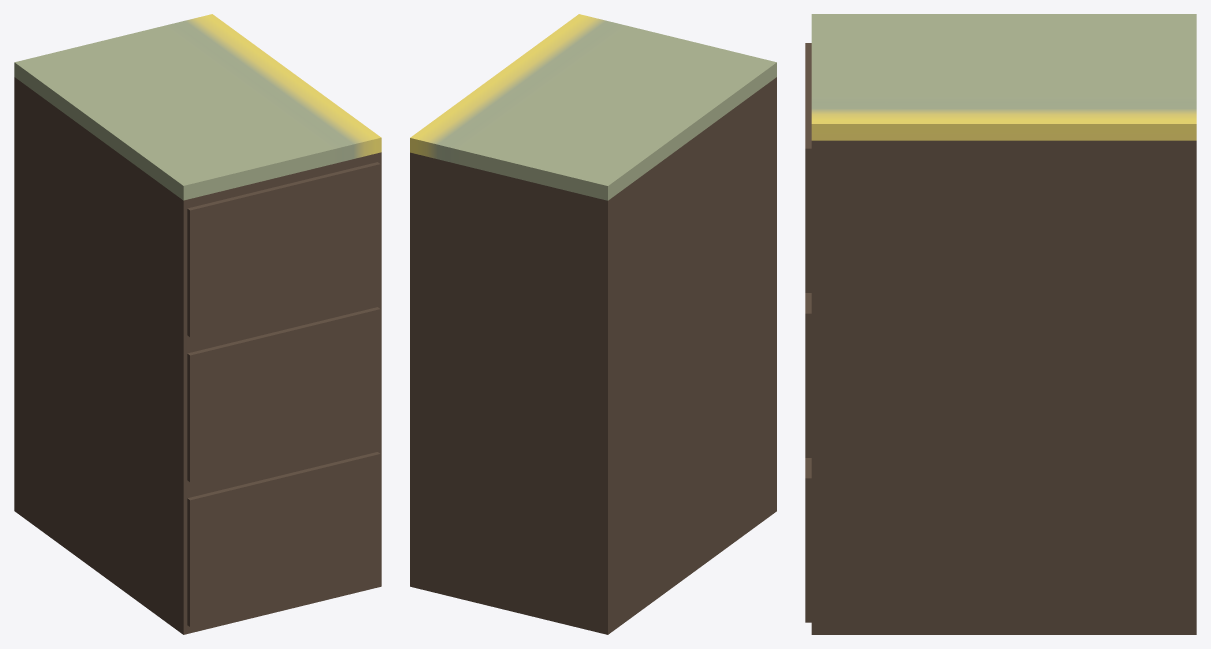
The model's file is Kitchen_2_Cabinet_3.fbx.
The picture shows the model from 3 angles, left to right: view 1: azimuth 30°, elevation 25°; view 2: azimuth 150°, elevation 25°; view 3: azimuth 270°, elevation 25°; orthographic projection. The views are drawn at different scales.
Visible parts, largest first — view 1: Kitchen_2_Cabinet_3; view 2: Kitchen_2_Cabinet_3; view 3: Kitchen_2_Cabinet_3.
Boxes of the visible parts, x1=… form: Kitchen_2_Cabinet_3: x1=14, y1=14, x2=381, y2=634; Kitchen_2_Cabinet_3: x1=410, y1=14, x2=776, y2=634; Kitchen_2_Cabinet_3: x1=805, y1=14, x2=1196, y2=634.
Bounding box in the file's own units: 59.68 × 129 × 89.72.
